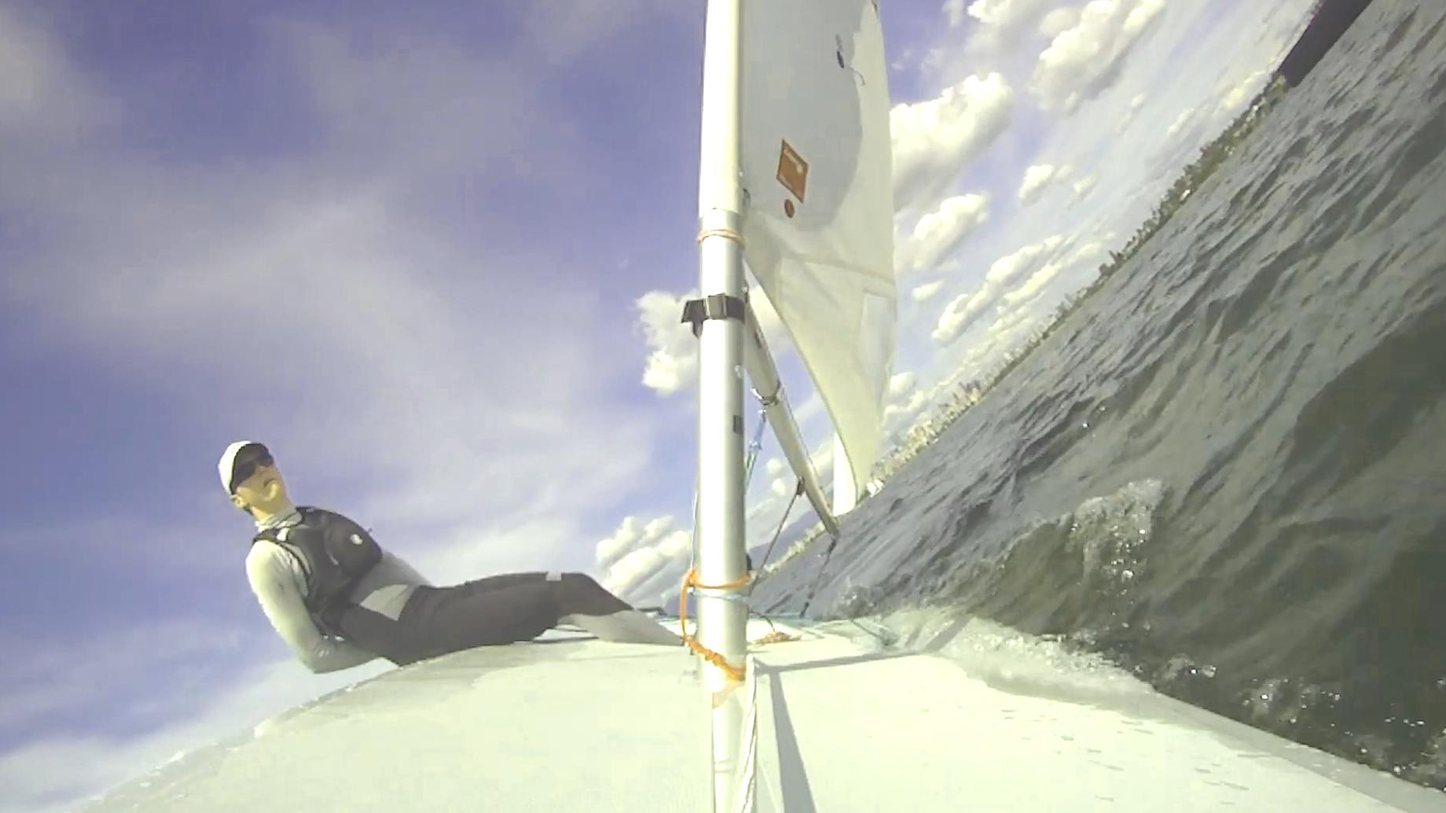boat: (72, 0, 1446, 813)
land: (748, 488, 828, 583)
person: (219, 442, 684, 674)
sea: (740, 0, 1446, 794)
sky: (0, 0, 713, 813), (881, 0, 1316, 462), (744, 382, 812, 552)
